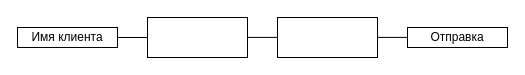
Some shapes in this 525 by 75 pixel diagram are drawn without their labels. Each missing label, with the centre of its shape:
"Текст сообщения клиента" belongs at point (197, 37).
"Текст сообщения с ответом" belongs at point (327, 37).
